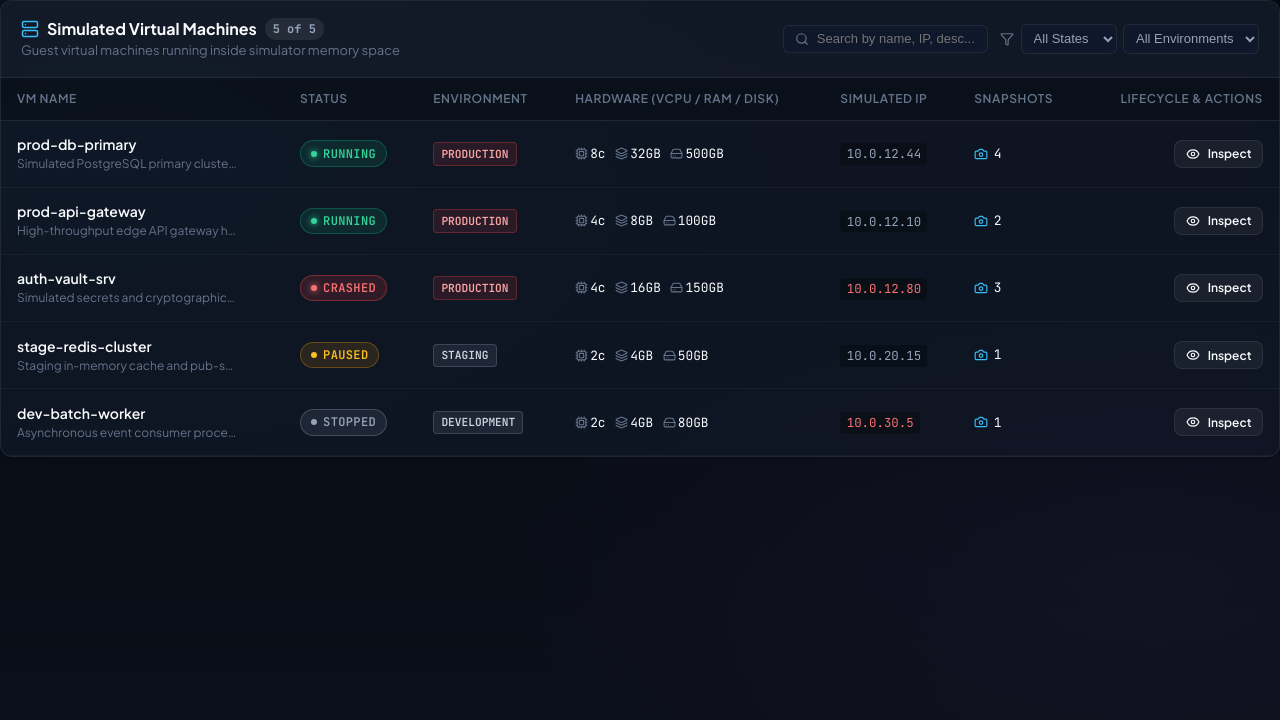
Test: VMInventoryTable Component › filters virtual machines by search query
Type "postgres" into the field with test id "vm-search-input".
click(897, 39); type("postgres")  # box left=817, top=31, right=977, bottom=46
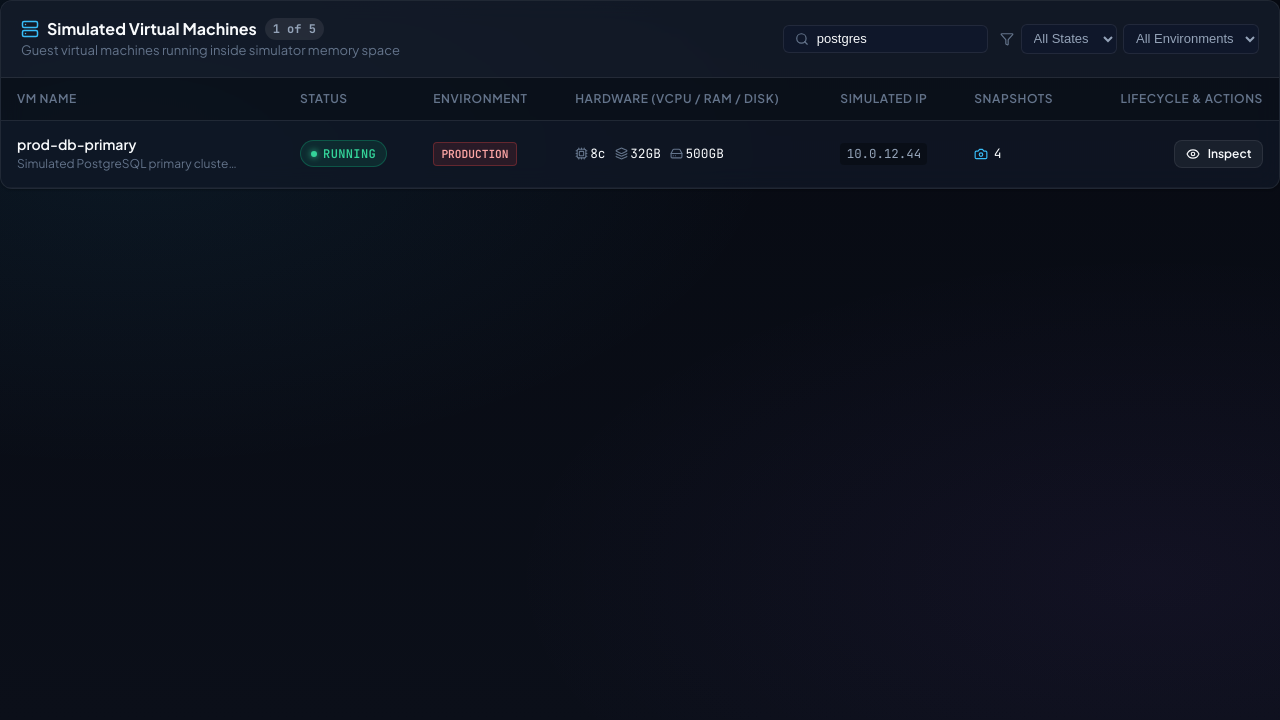
Expected: the text "prod-db-primary" is shown, left=17, top=135, right=136, bottom=153
Now the text "prod-api-gateway" is gone
